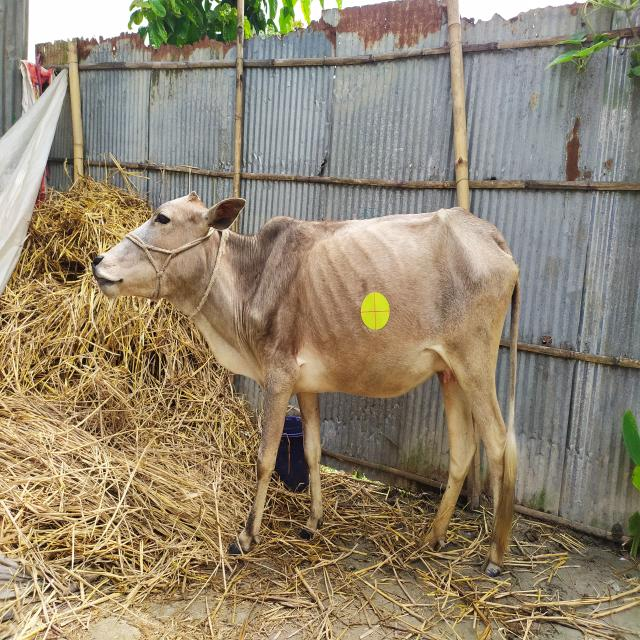badan_sapi: (262, 220, 518, 394)
sapi: (84, 182, 546, 583)
